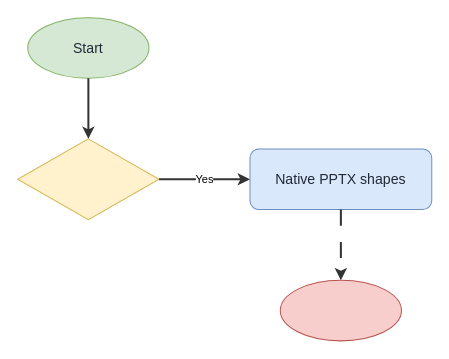
Image size: 449x359. Some labels were removed from this diagram. The shapes that lost their labels are listed below. From the top down, each one's box as (x1, y1, x2, y2) in pixels, then its label:
(17, 138, 159, 220): Approved?
(279, 279, 401, 341): Done
